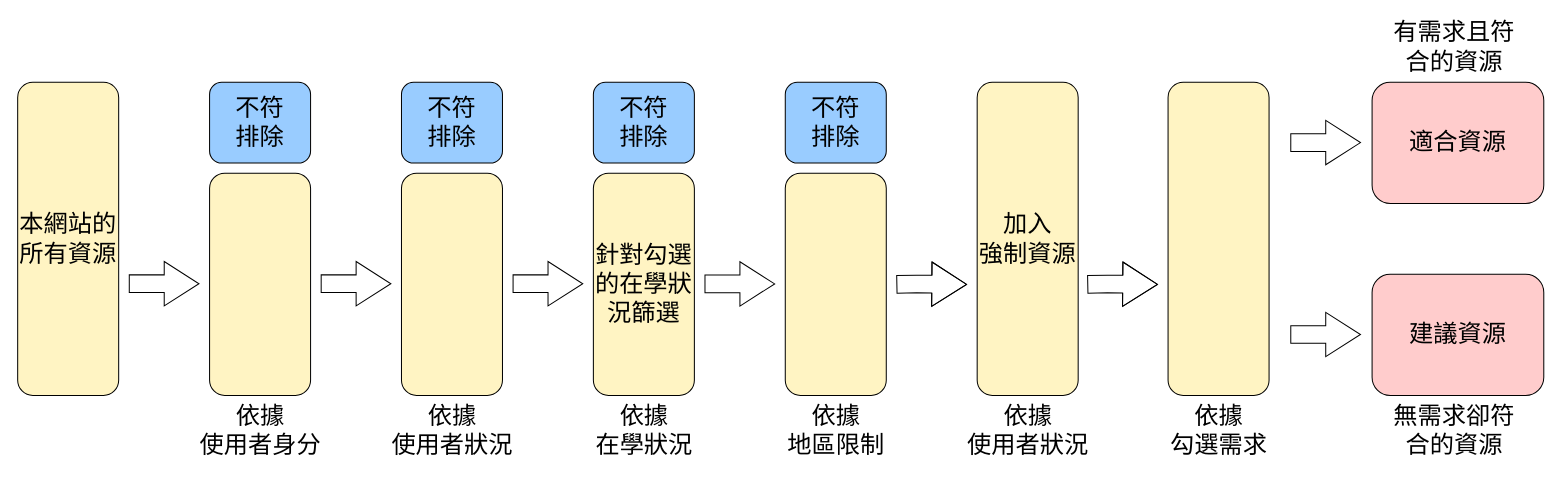
Image size: 1561x477. Some labels were removed from this diagram. Here are the shapes that lost their labels. From the top down, the box of each, then its label:
(1167, 81, 1269, 395): 篩選 需求
(209, 172, 311, 395): 針對勾選的 使用者身分篩選
(400, 172, 502, 395): 針對勾選的 使用者狀況篩選
(784, 172, 886, 395): 針對選擇的 地區限制篩選
